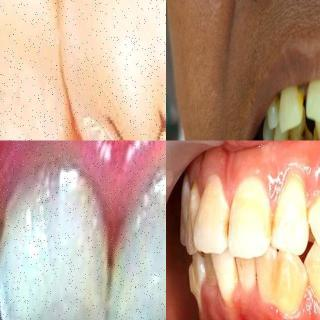Gum Swelling: (0, 140, 166, 236), (220, 140, 320, 213), (232, 280, 320, 320)
calculus: (291, 78, 308, 112)
cavities: (89, 76, 166, 140), (296, 124, 308, 140)
maligned: (270, 244, 312, 310), (194, 173, 230, 250), (214, 251, 238, 311)
stains: (249, 202, 293, 244), (215, 210, 239, 242)
